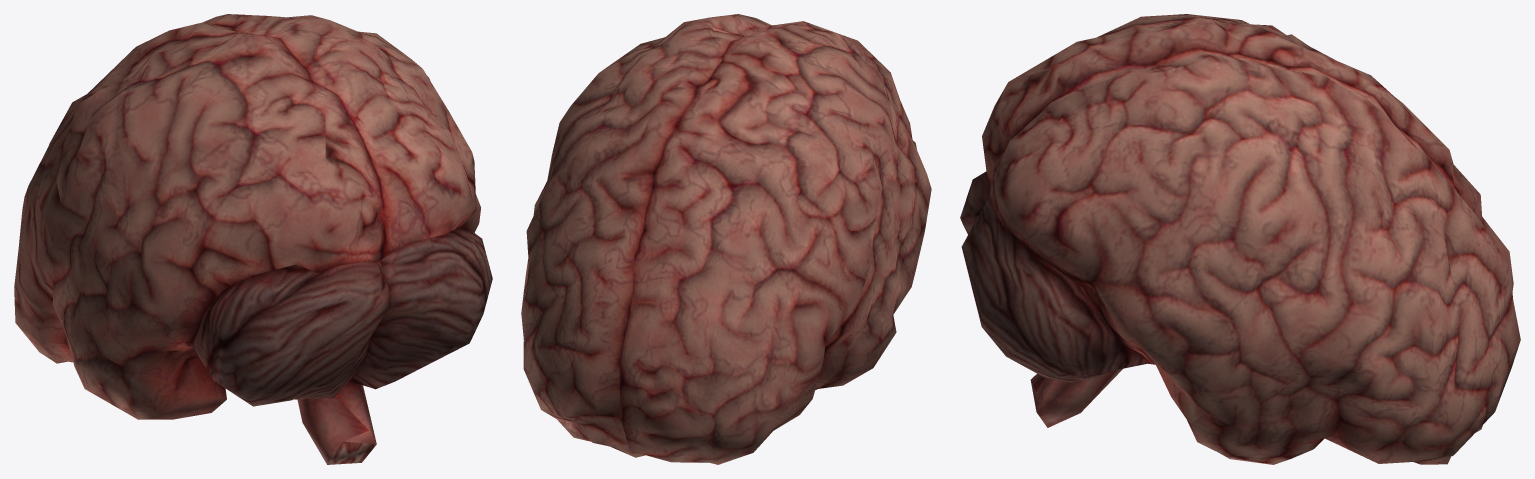
File: plushbrain.fbx
The picture shows the model from 3 angles, left to right: view 1: azimuth 30°, elevation 25°; view 2: azimuth 150°, elevation 25°; view 3: azimuth 270°, elevation 25°; orthographic projection. The views are drawn at different scales.
Visible parts, largest first — view 1: brain.1; view 2: brain.1; view 3: brain.1.
Part boxes in pixels (box(x1,y1,x2,y2)): brain.1: box(14, 14, 492, 464); brain.1: box(521, 14, 931, 464); brain.1: box(960, 14, 1520, 464).
Size of the model in its own units: 0.2753 by 0.2865 by 0.357.
